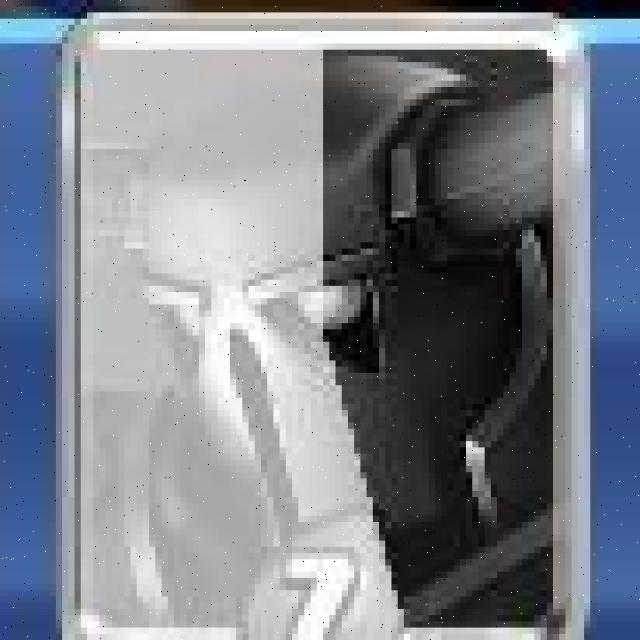Pekka: (61, 15, 593, 640)
